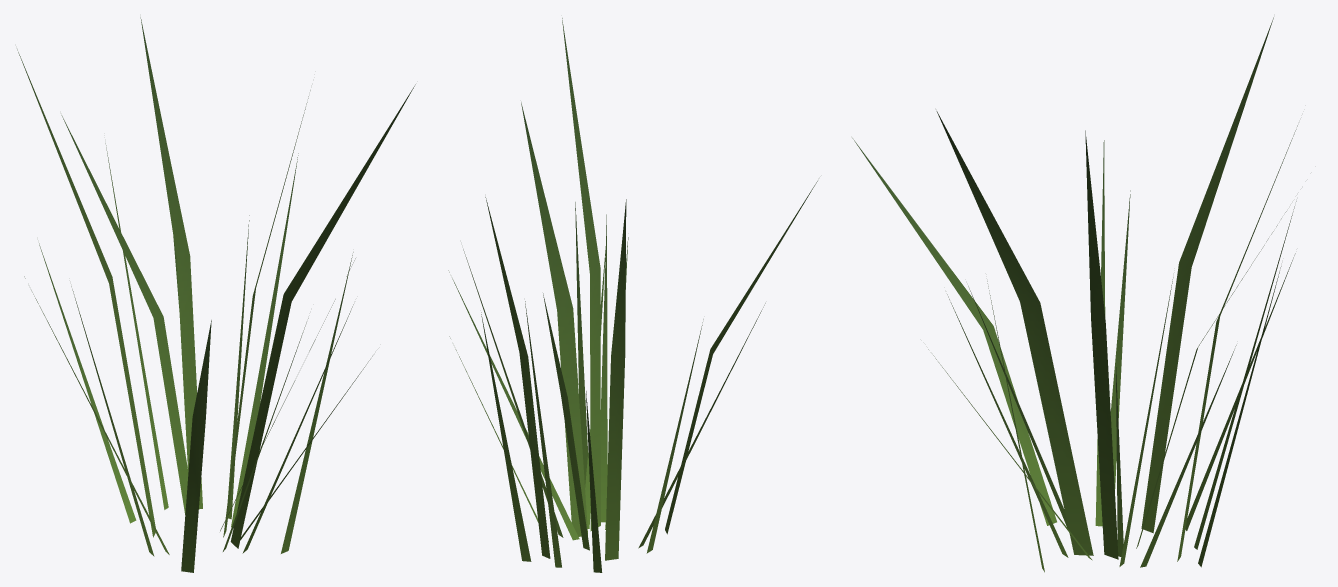
File: forest_grass_001_c_LOD2.gltf
3 views of the same model, side by side, from view 1: azimuth 30°, elevation 25°; view 2: azimuth 150°, elevation 25°; view 3: azimuth 270°, elevation 25° (orthographic). The views are drawn at different scales.
Parts seen in each view (by area): view 1: forest_grass_001_c_LOD2; view 2: forest_grass_001_c_LOD2; view 3: forest_grass_001_c_LOD2.
Part boxes in pixels (left/top/right/bottom): forest_grass_001_c_LOD2: left=17, top=17, right=415, bottom=572; forest_grass_001_c_LOD2: left=448, top=18, right=817, bottom=572; forest_grass_001_c_LOD2: left=852, top=17, right=1297, bottom=572.
Size of the model in its own units: 0.7147 by 0.9524 by 0.8124.
Materials: 1 (1 with a texture image).
